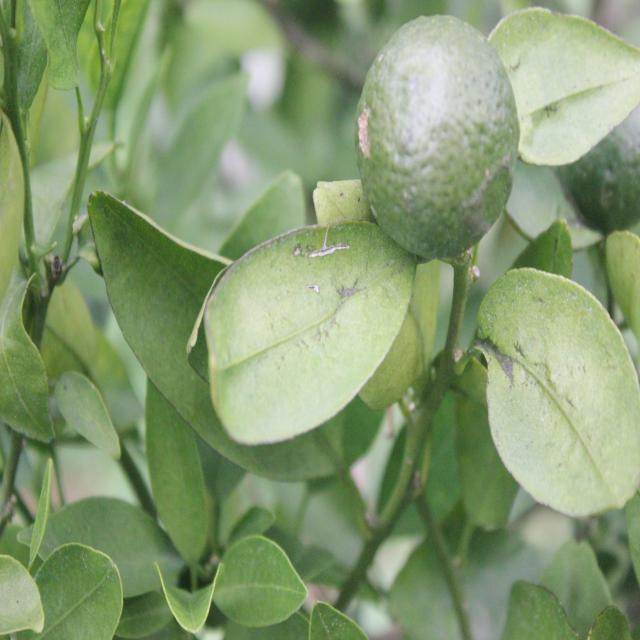blackspot: (235, 247, 372, 395), (504, 308, 606, 444), (101, 207, 185, 341), (518, 52, 628, 151), (62, 382, 100, 434)
